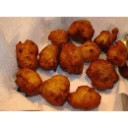bonda: (70, 79, 103, 112), (87, 60, 121, 90), (44, 73, 71, 109), (59, 42, 85, 75), (15, 39, 39, 72), (15, 69, 41, 96), (38, 45, 59, 72), (70, 19, 94, 40), (95, 28, 115, 47), (49, 29, 69, 44)
